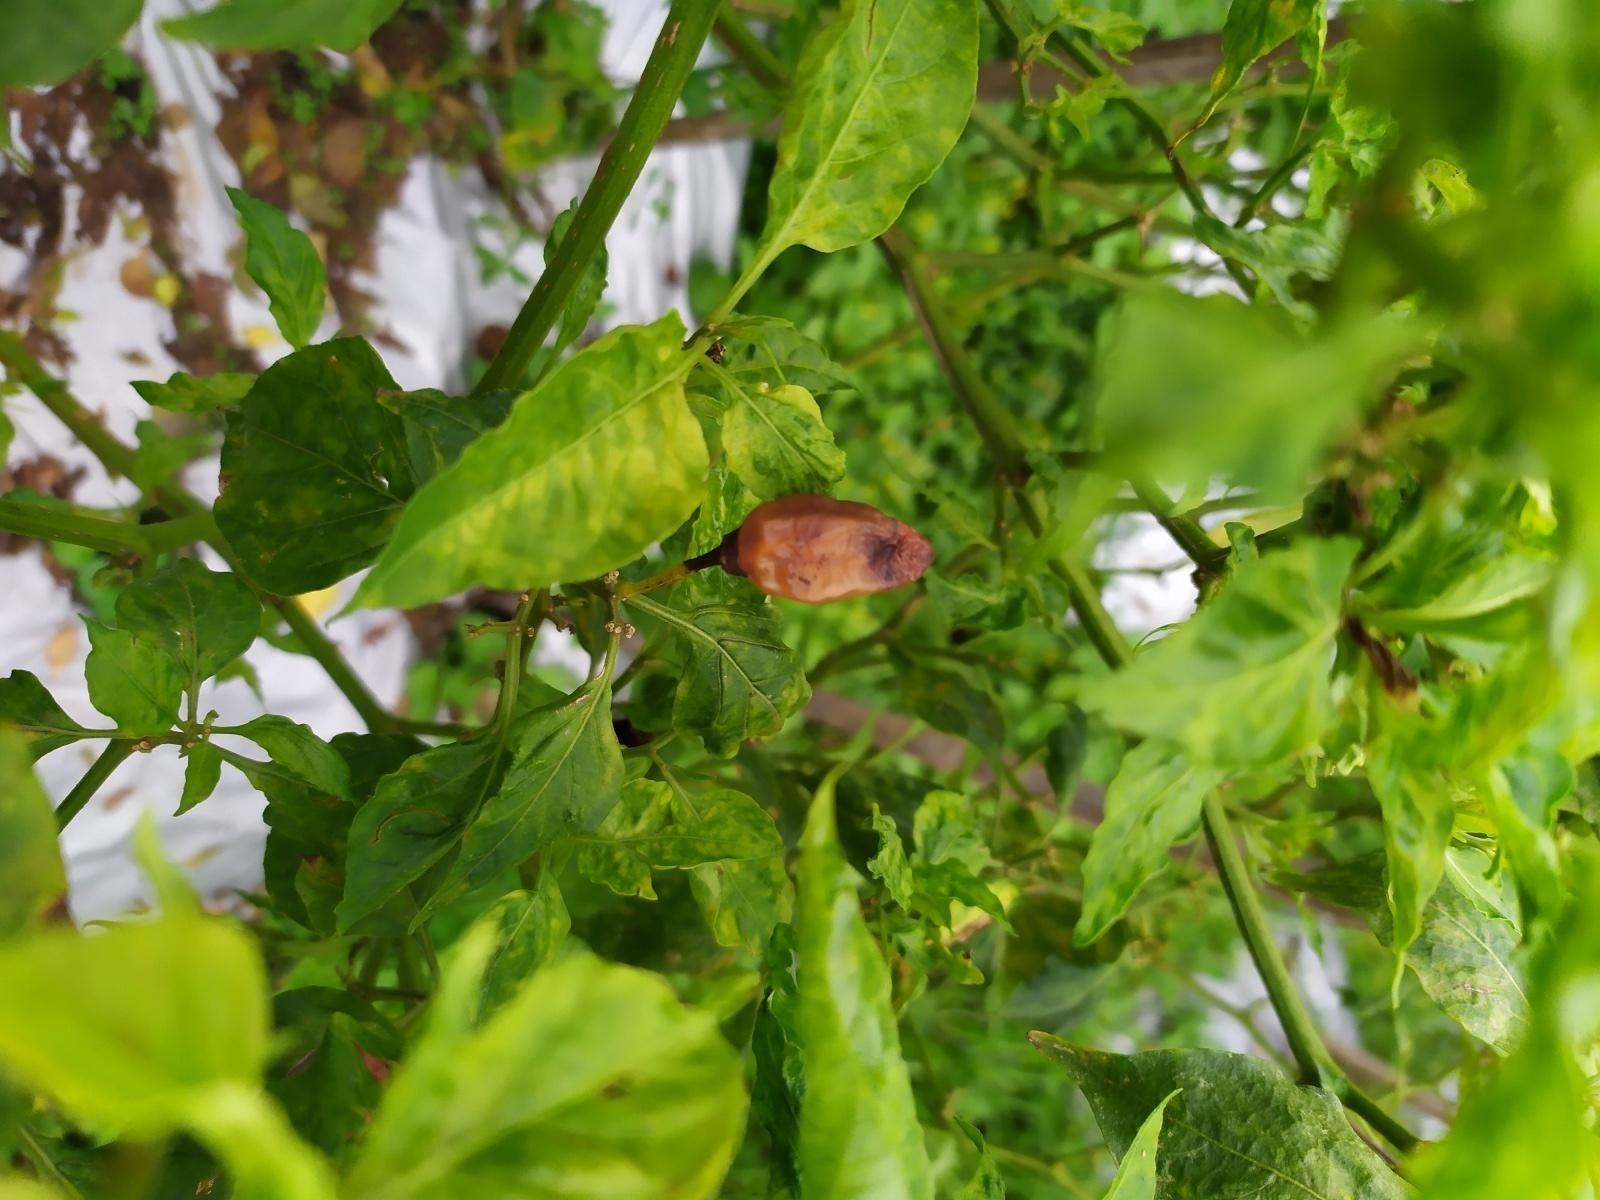lalat_buah: (723, 493, 937, 605)
